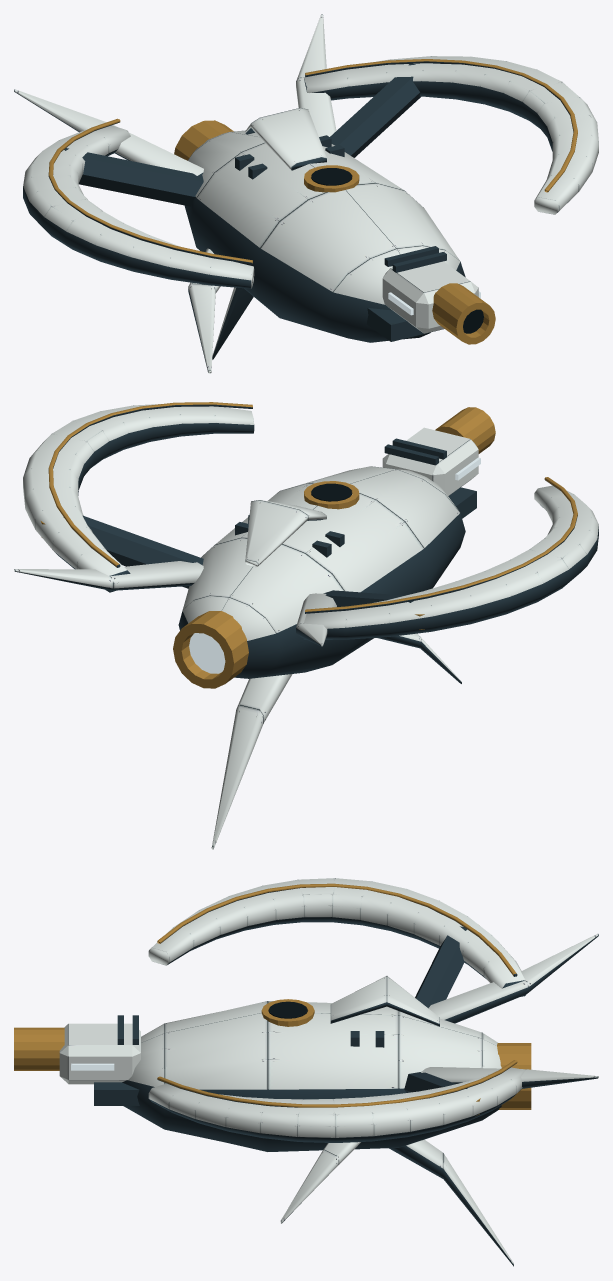
The model's file is pioneer-europa-l08-laser.glb.
3 views of the same model, one above another, from view 1: azimuth 30°, elevation 25°; view 2: azimuth 150°, elevation 25°; view 3: azimuth 270°, elevation 25° (orthographic). The views are drawn at different scales.
Visible parts, largest first — view 1: Drone; view 2: Drone; view 3: Drone.
Boxes of the visible parts, <box> form: Drone: <box>14,14,598,373</box>; Drone: <box>14,402,598,849</box>; Drone: <box>14,878,598,1266</box>.
Size of the model in its own units: 1.63 by 0.878 by 1.66.
3 materials, 3 textured.
